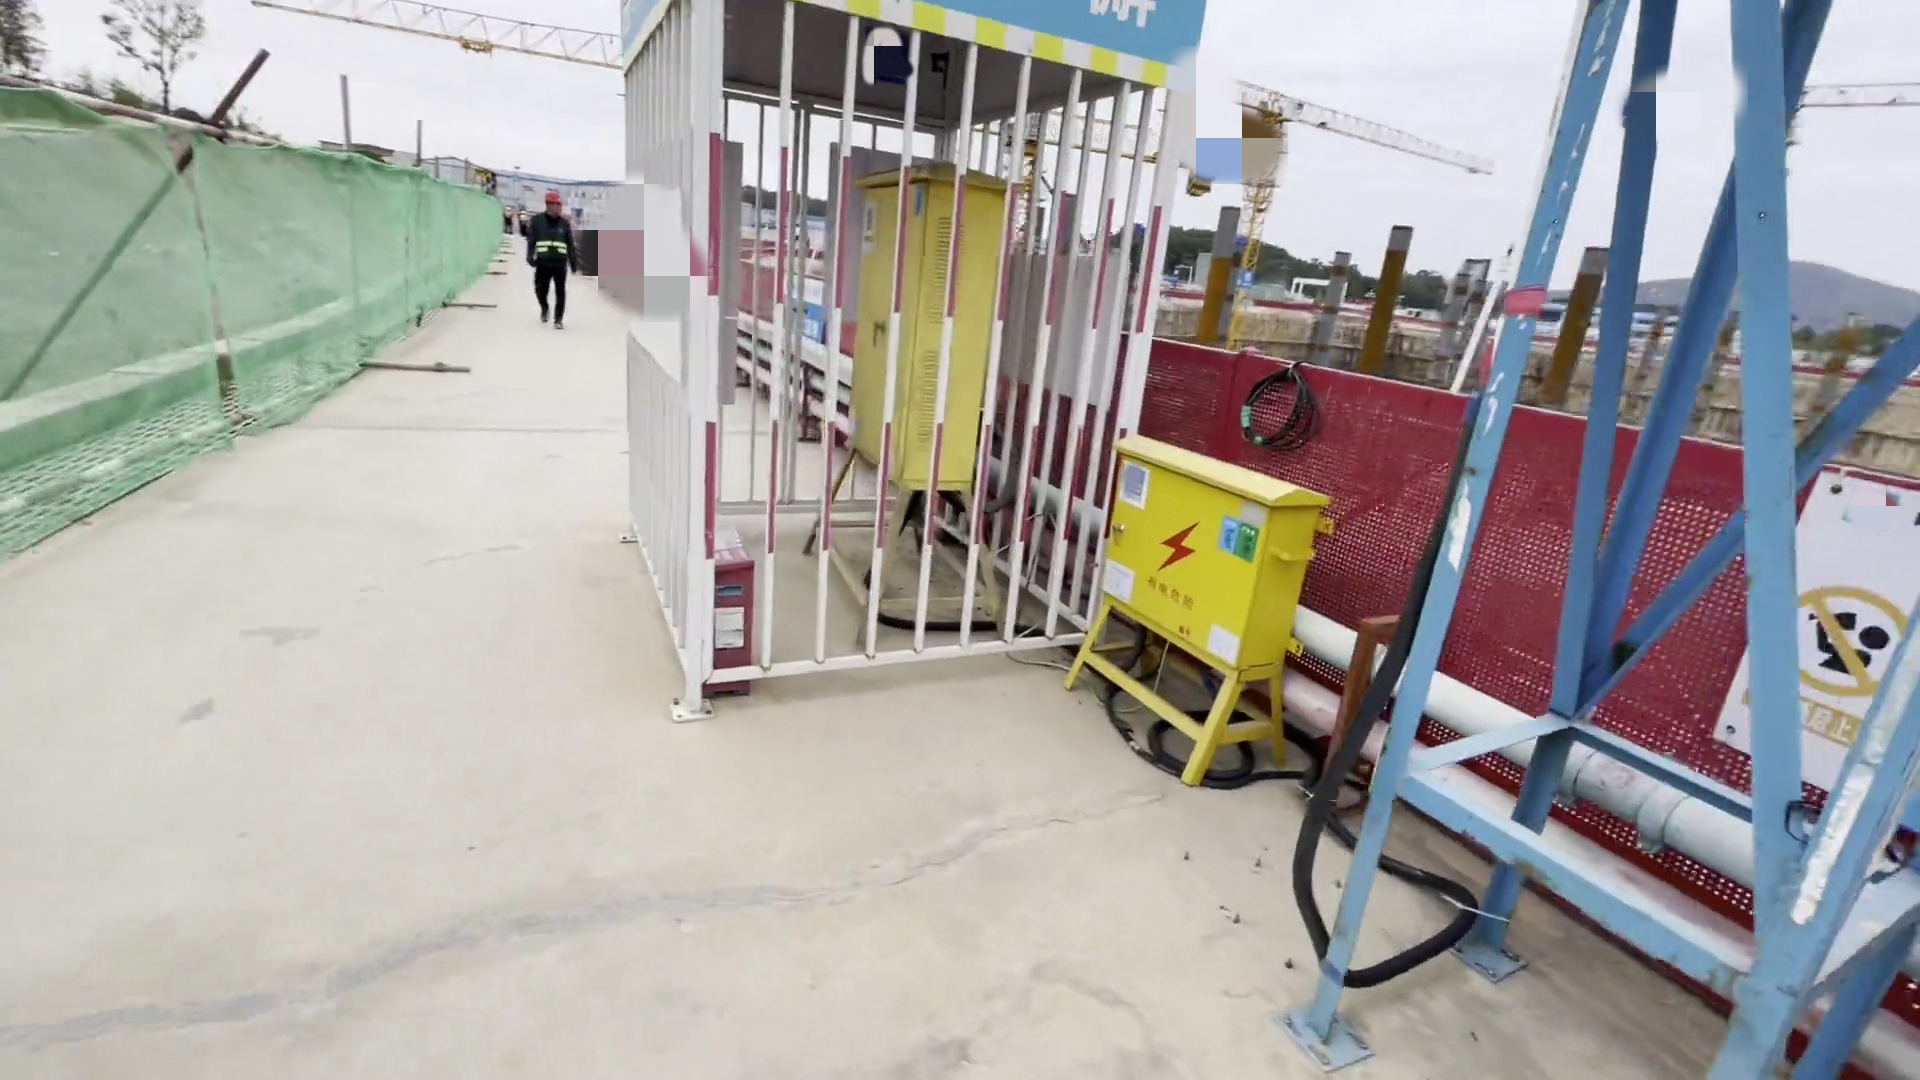ebox: (1072, 416, 1302, 799), (854, 149, 998, 496)
fence: (1187, 342, 1886, 832)
helmet: (542, 189, 565, 206)
person: (521, 188, 583, 336)
vest: (530, 211, 571, 273)
